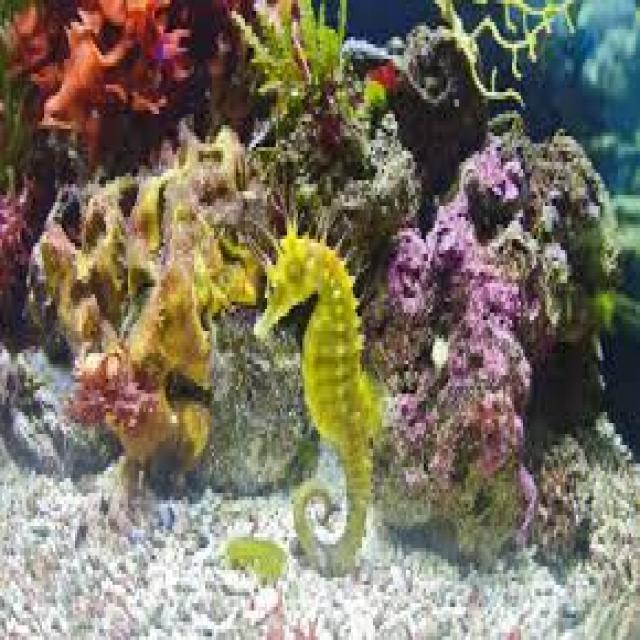SeaHorse: (252, 236, 382, 582)
